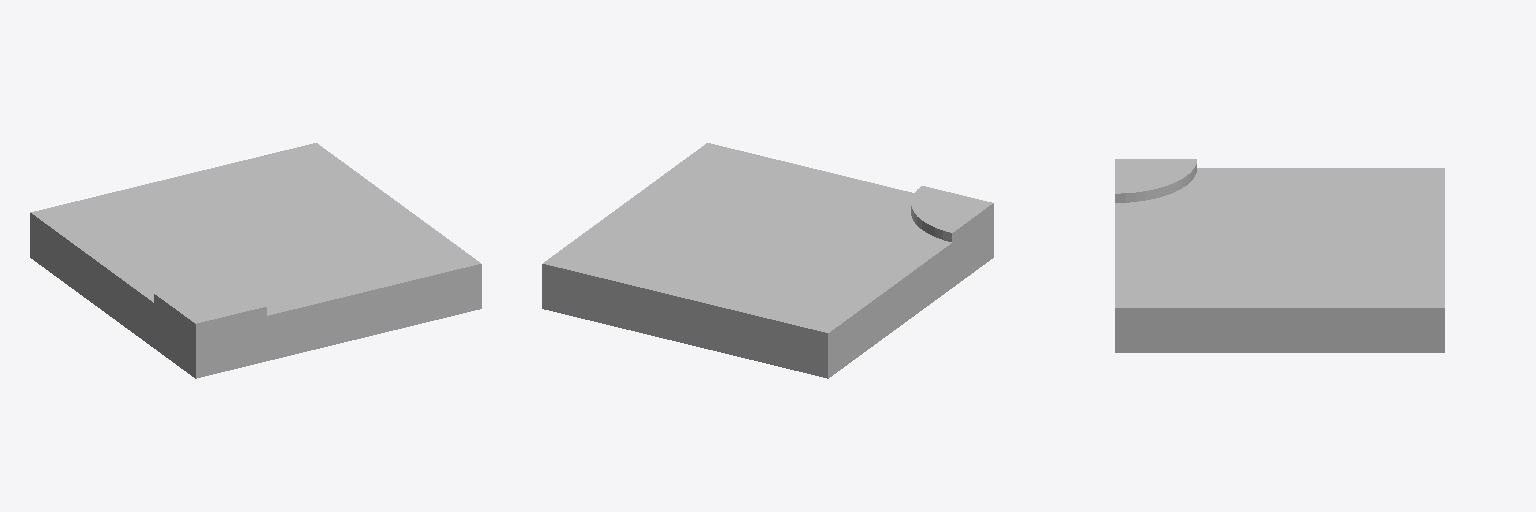
Rendered from roadTile_159.obj.
3 renders of one model, left to right at view 1: azimuth 30°, elevation 25°; view 2: azimuth 150°, elevation 25°; view 3: azimuth 270°, elevation 25°, orthographic.
Visible parts, largest first — view 1: Mesh1 Group1 Model; view 2: Mesh1 Group1 Model; view 3: Mesh1 Group1 Model.
Boxes of the visible parts, x1=… form: Mesh1 Group1 Model: x1=30, y1=143, x2=481, y2=378; Mesh1 Group1 Model: x1=542, y1=143, x2=993, y2=378; Mesh1 Group1 Model: x1=1115, y1=159, x2=1444, y2=352.
Bounding box in the file's own units: 3 × 0.55 × 3.